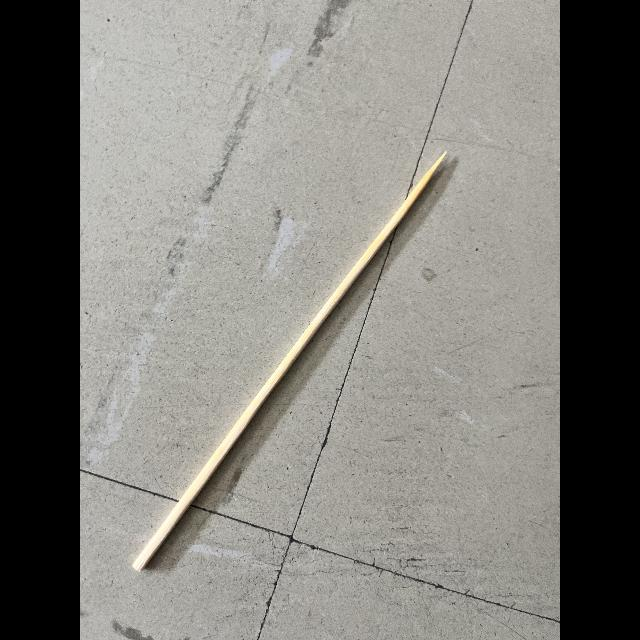stick: (118, 136, 460, 590)
